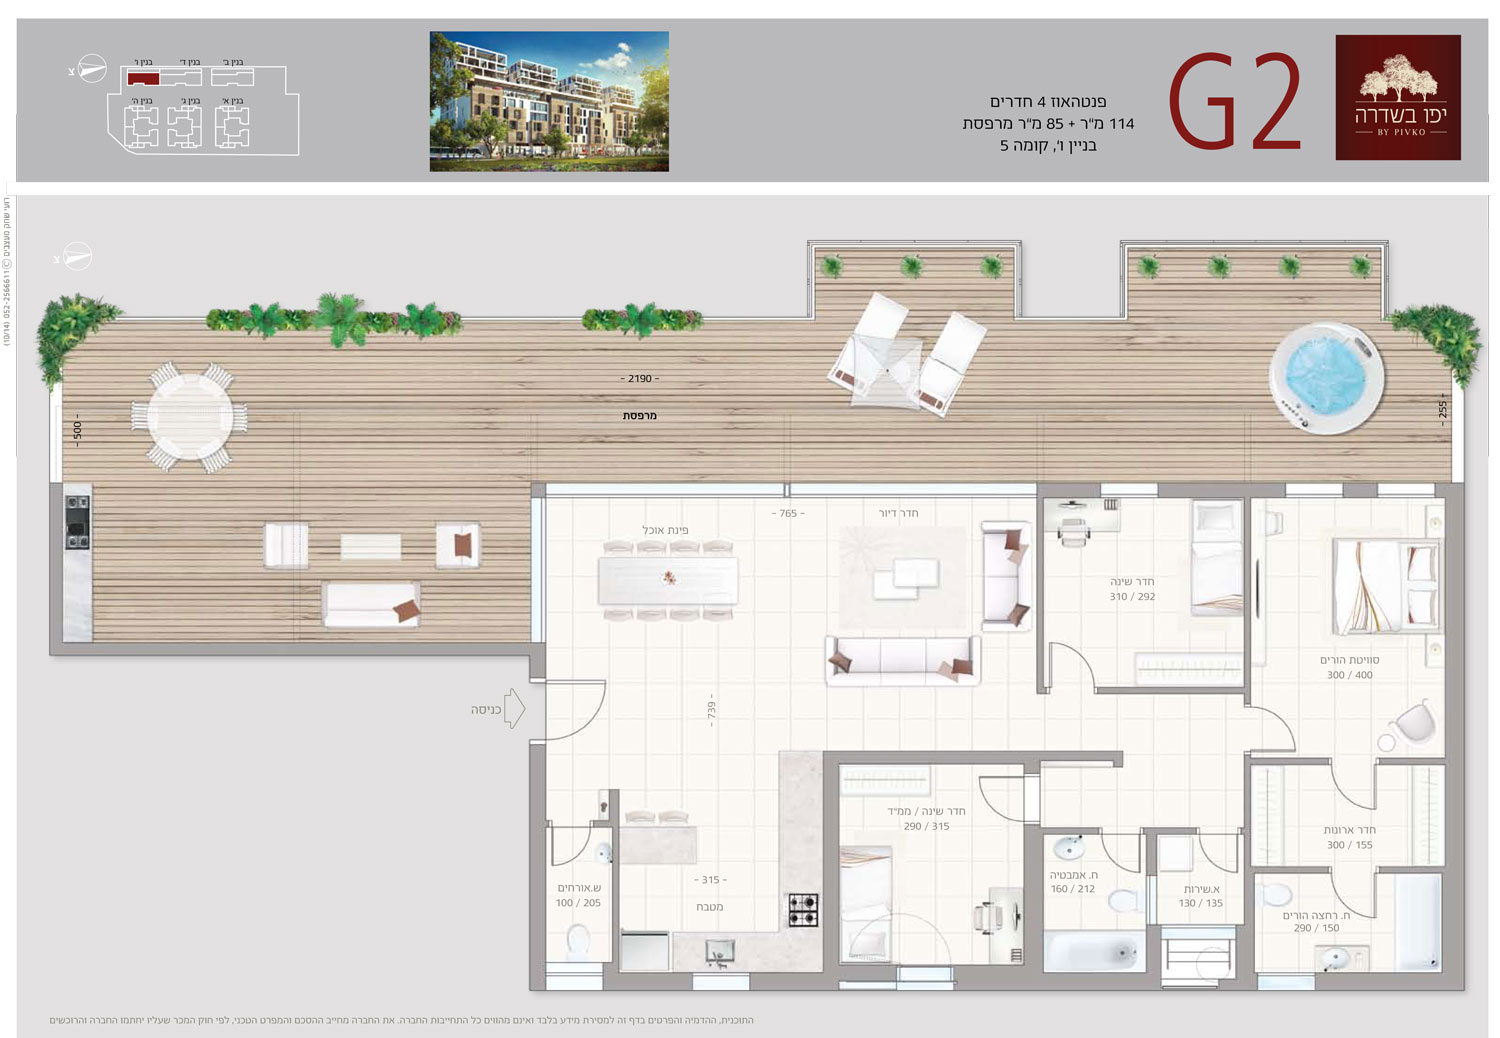door: (1330, 884, 1407, 940), (1319, 775, 1400, 822), (552, 673, 612, 734), (1257, 697, 1301, 765), (1196, 835, 1246, 880), (1046, 629, 1092, 673), (1100, 835, 1146, 878), (977, 773, 1014, 822), (547, 829, 588, 873)
wall: (1444, 483, 1466, 989)
window: (547, 964, 601, 995), (695, 970, 752, 994), (900, 970, 955, 994), (1288, 483, 1346, 502)
